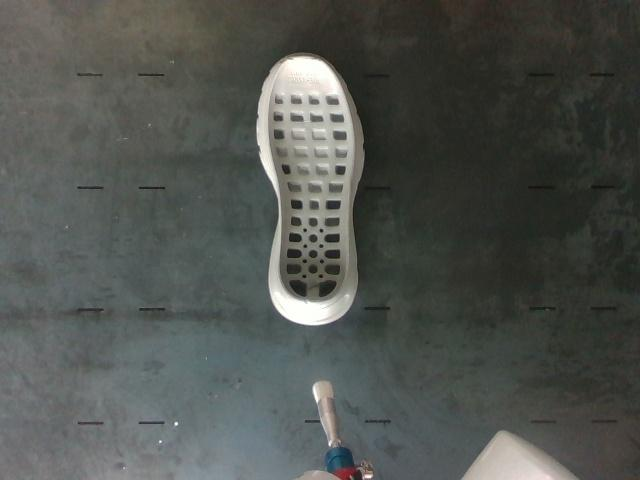shoes: (267, 56, 354, 305)
